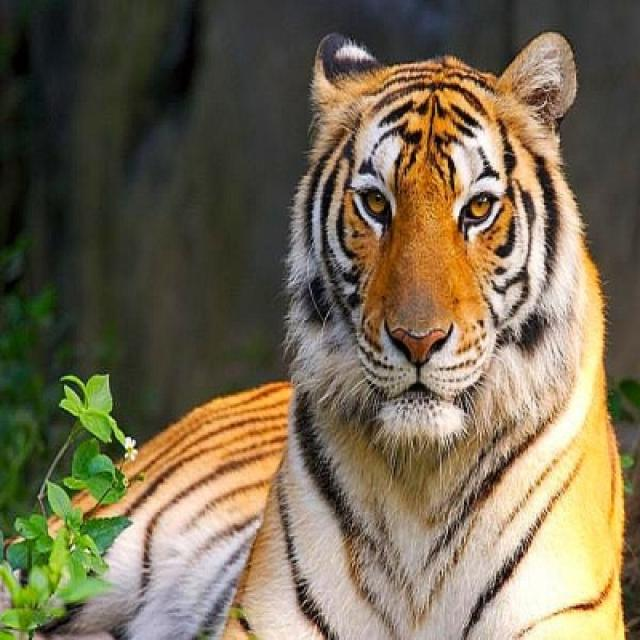Tiger: (0, 33, 626, 638)
